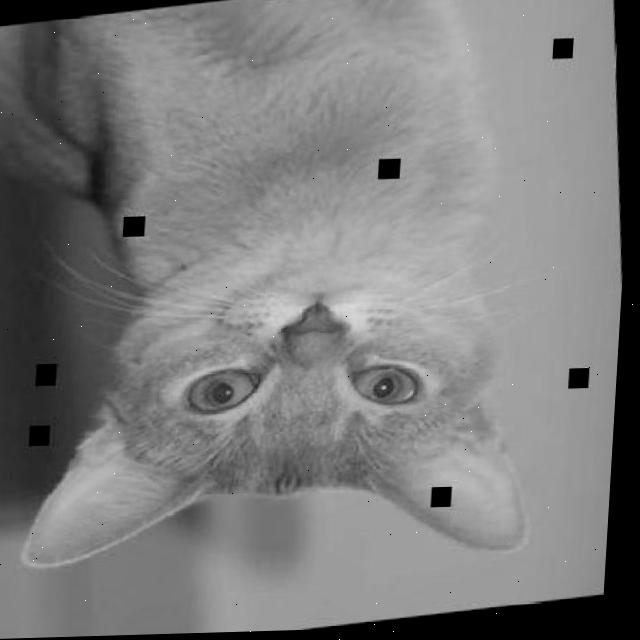Cat: (0, 0, 564, 615)
